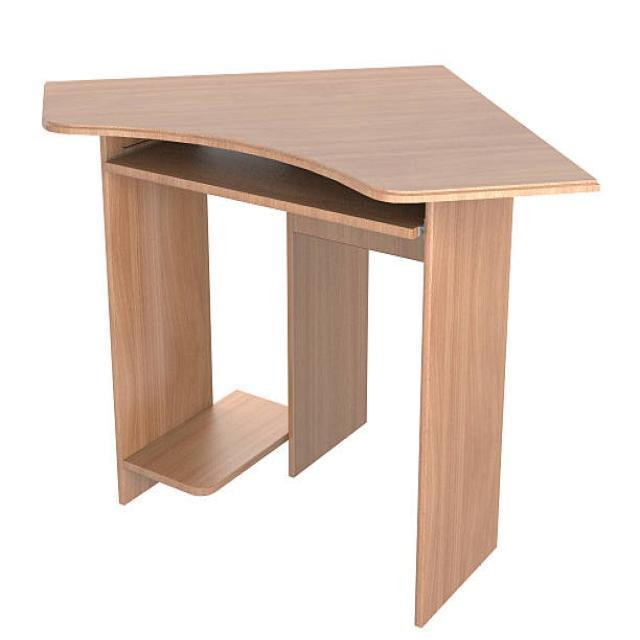table: (40, 63, 600, 626)
